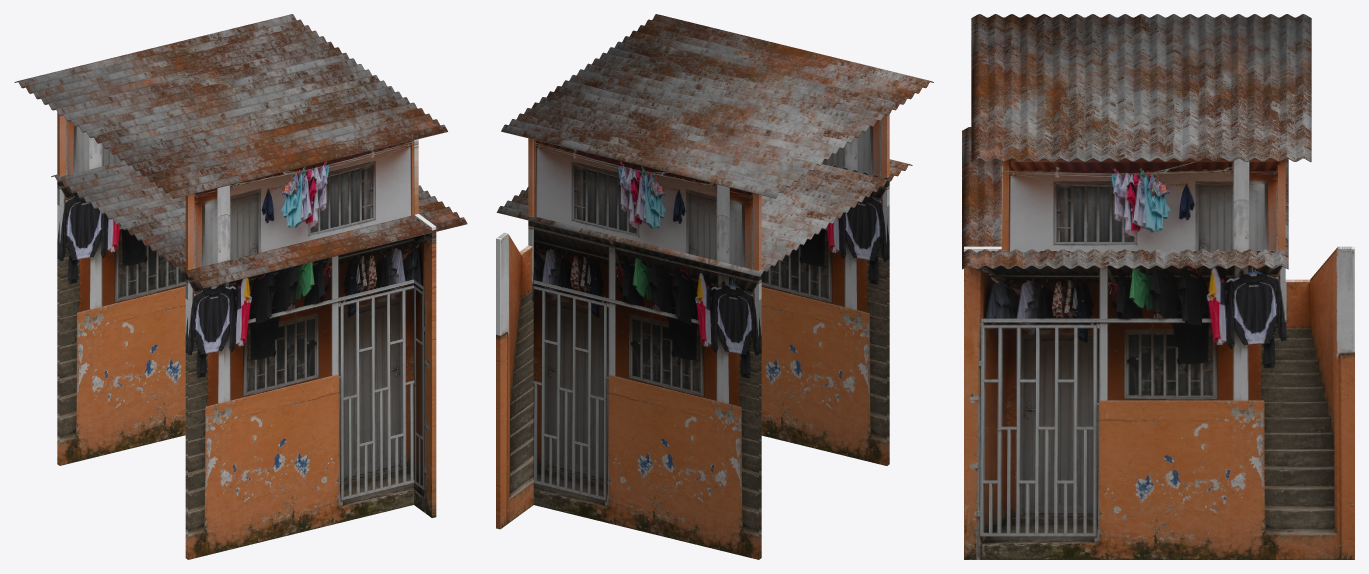
File: casaA_izquierda_03.fbx
3 views of the same model, side by side, from view 1: azimuth 30°, elevation 25°; view 2: azimuth 150°, elevation 25°; view 3: azimuth 270°, elevation 25° (orthographic). The views are drawn at different scales.
Visible parts, largest first — view 1: casaA_izquierda_03.002, CorrigatedPanel-2x2.007, casaA_izquierda_03.003, CorrigatedPanel-2x2.008, casaA_izquierda_03.001; view 2: casaA_izquierda_03.003, CorrigatedPanel-2x2.007, casaA_izquierda_03.002, casaA_izquierda_03.001, CorrigatedPanel-2x2.008; view 3: casaA_izquierda_03.001, CorrigatedPanel-2x2.007, CorrigatedPanel-2x2.008.
Part boxes in pixels (bbox=[...]): casaA_izquierda_03.002: bbox=[185, 140, 413, 559]; CorrigatedPanel-2x2.007: bbox=[14, 14, 447, 198]; casaA_izquierda_03.003: bbox=[57, 112, 185, 465]; CorrigatedPanel-2x2.008: bbox=[51, 161, 467, 288]; casaA_izquierda_03.001: bbox=[414, 139, 436, 517]; casaA_izquierda_03.003: bbox=[533, 140, 761, 559]; CorrigatedPanel-2x2.007: bbox=[501, 14, 933, 198]; casaA_izquierda_03.002: bbox=[761, 115, 889, 465]; casaA_izquierda_03.001: bbox=[496, 138, 533, 529]; CorrigatedPanel-2x2.008: bbox=[496, 159, 912, 276]; casaA_izquierda_03.001: bbox=[964, 158, 1354, 559]; CorrigatedPanel-2x2.007: bbox=[971, 14, 1311, 161]; CorrigatedPanel-2x2.008: bbox=[962, 127, 1288, 269].
Size of the model in its own units: 325 by 411 by 357.
